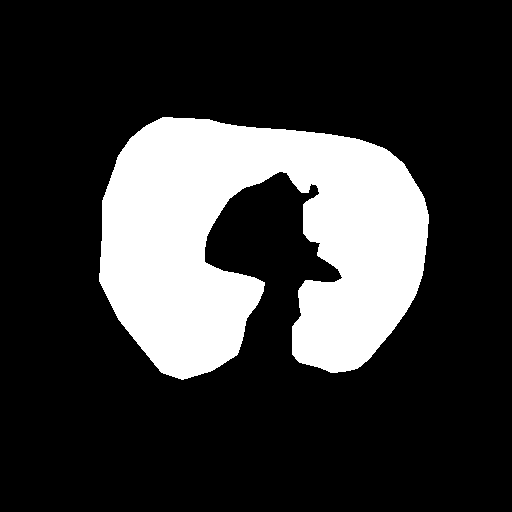Lungs: (98, 120, 428, 374)
